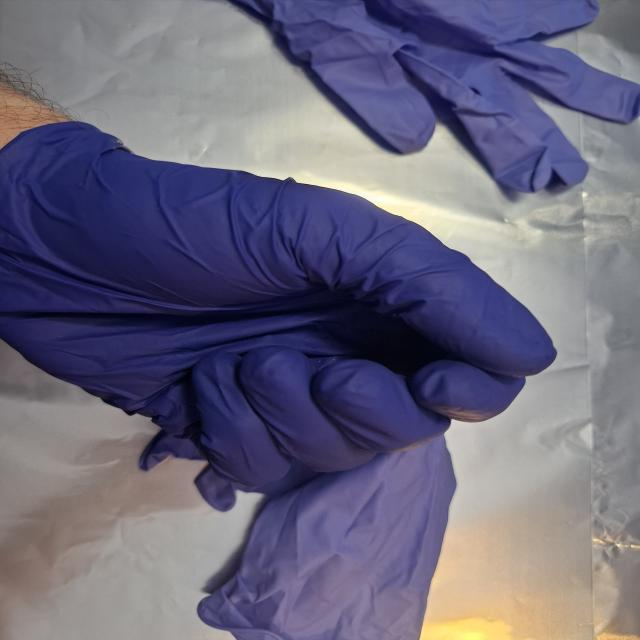glove_on: (0, 117, 564, 489)
